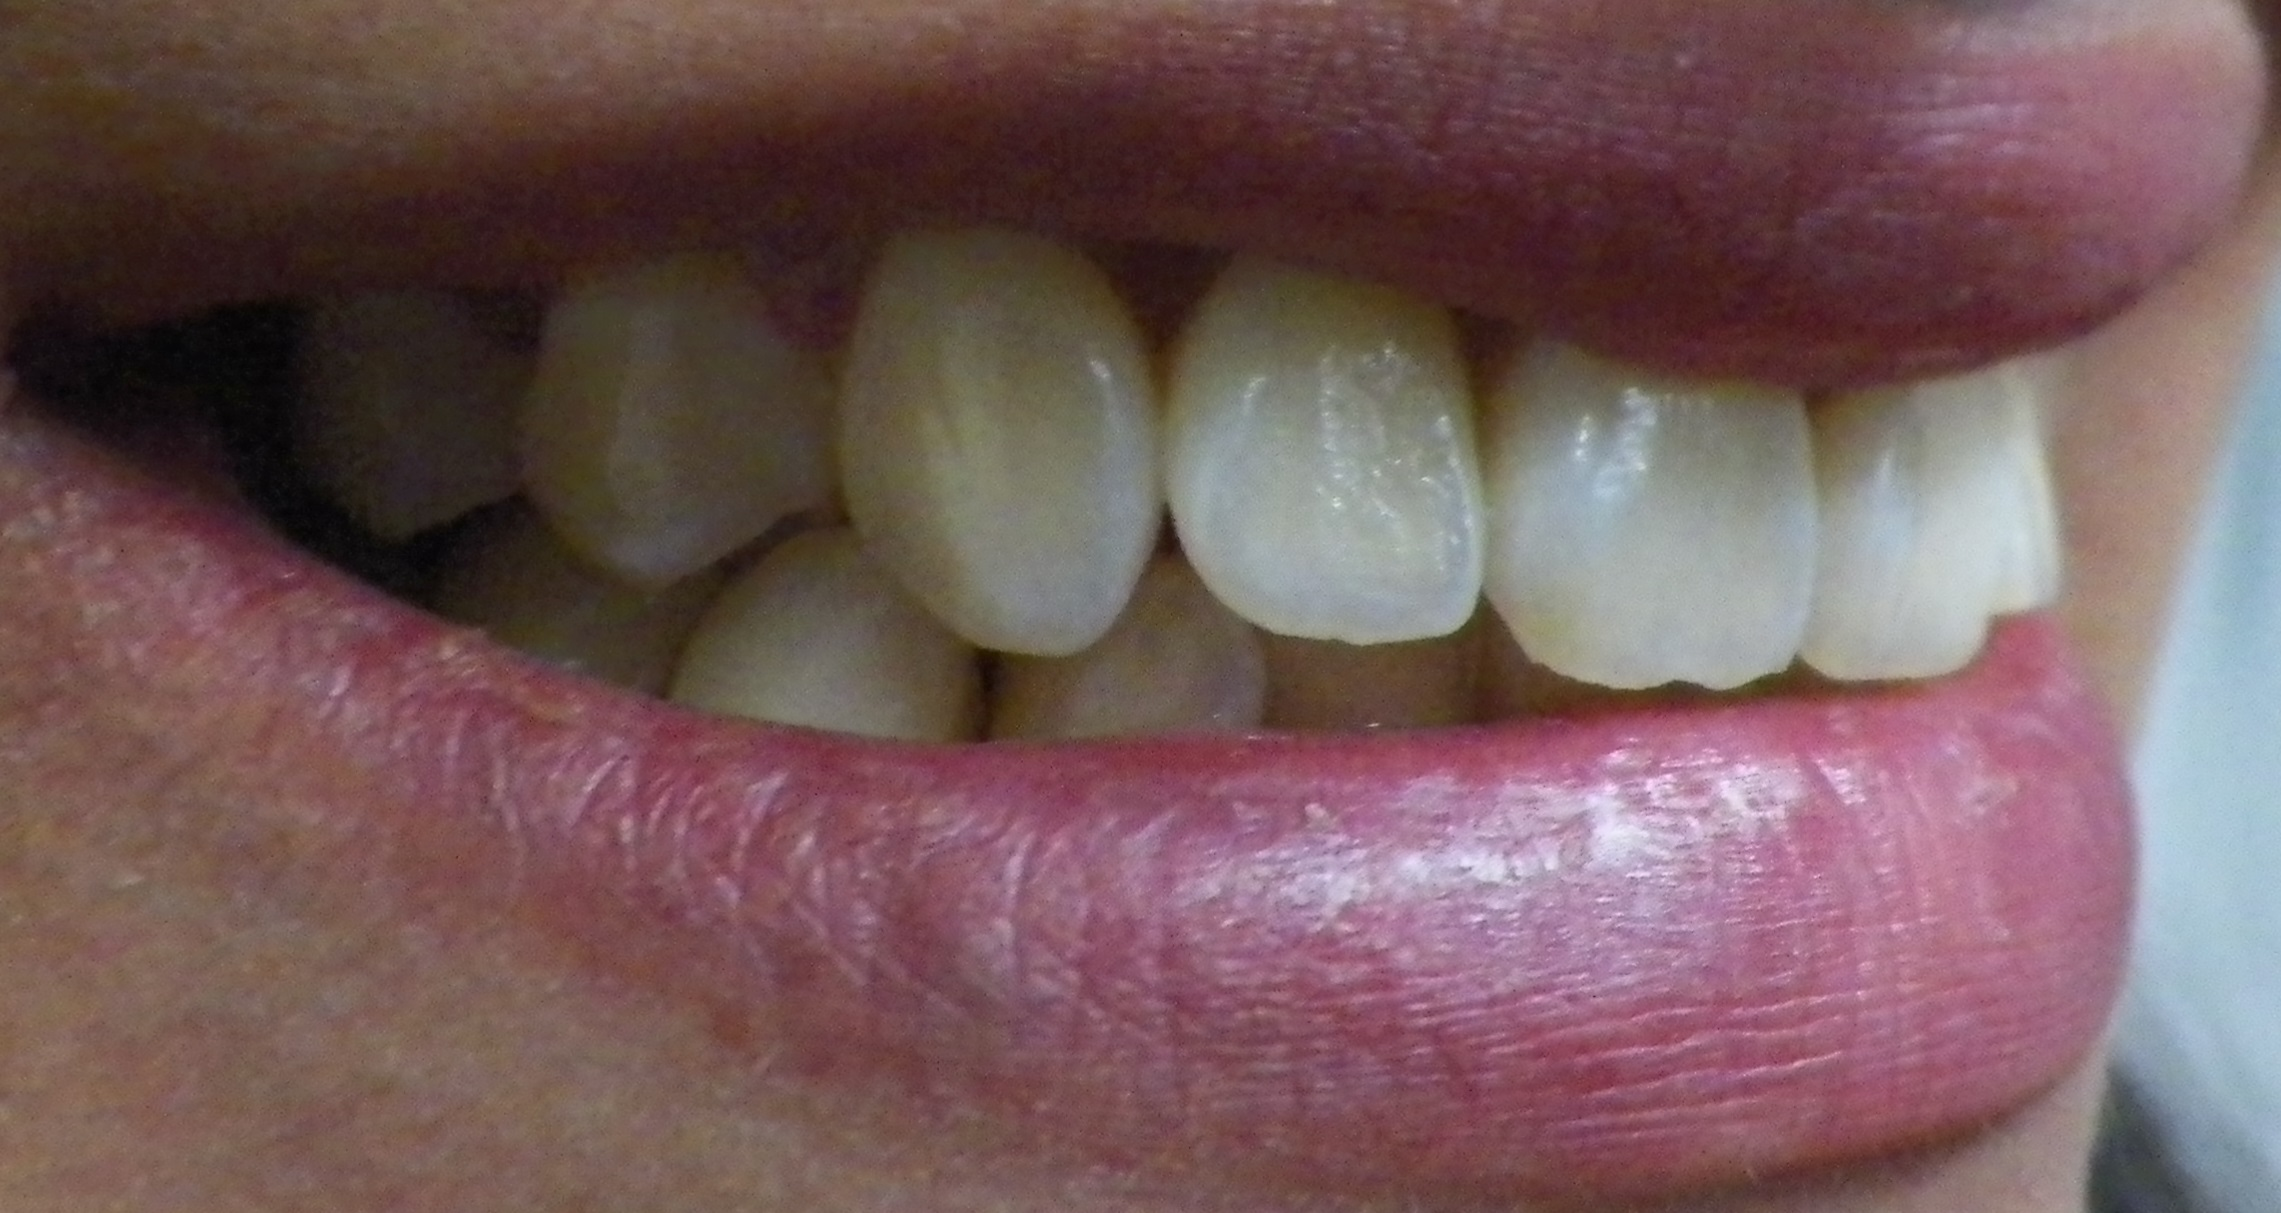boca: (314, 267, 2061, 726)
